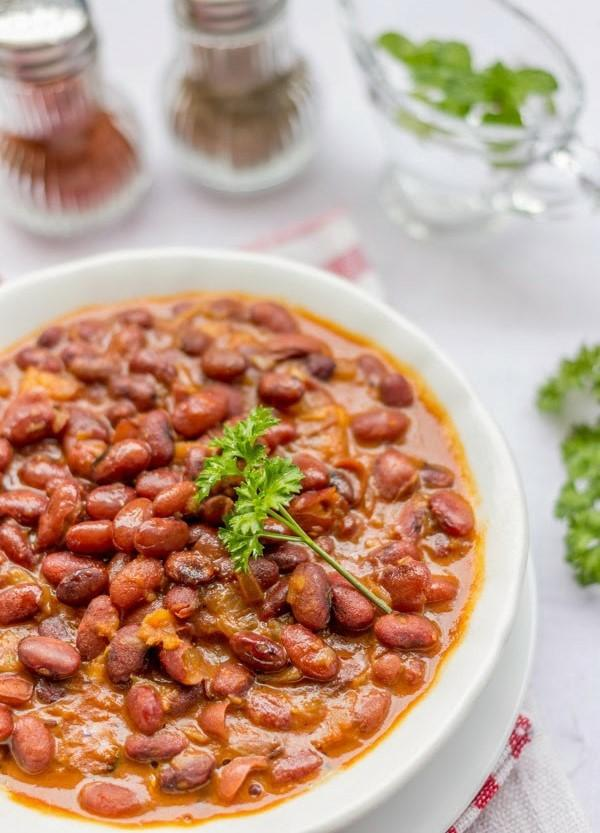RajmaCurry: (0, 294, 478, 833)
